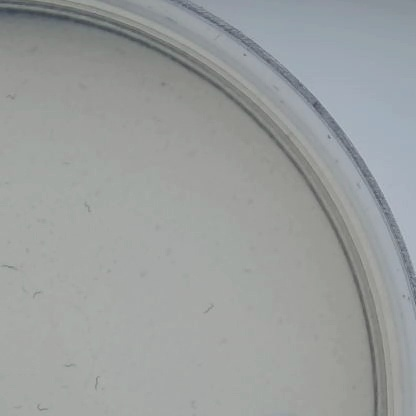worm: (0, 257, 25, 277), (85, 372, 106, 393), (28, 283, 48, 305), (58, 357, 83, 371), (32, 400, 52, 416), (0, 90, 22, 104), (77, 199, 95, 215), (202, 300, 217, 319), (8, 400, 24, 415)
